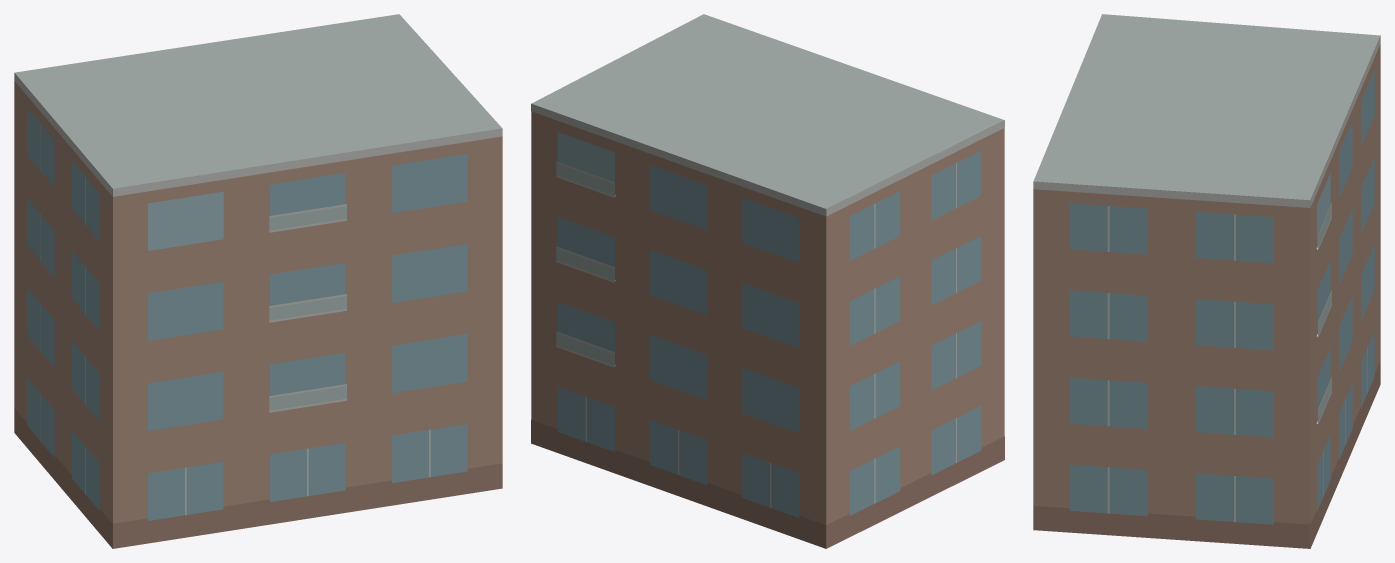
File: survey-upis-32801424.glb
3 renders of one model, left to right at view 1: azimuth 30°, elevation 25°; view 2: azimuth 150°, elevation 25°; view 3: azimuth 270°, elevation 25°, orthographic. The views are drawn at different scales.
Parts seen in each view (by area): view 1: survey-upis-32801424.tmp; view 2: survey-upis-32801424.tmp; view 3: survey-upis-32801424.tmp.
Part boxes in pixels (box(x1,y1,x2,y2)): survey-upis-32801424.tmp: box(14, 14, 502, 548); survey-upis-32801424.tmp: box(531, 14, 1004, 548); survey-upis-32801424.tmp: box(1033, 14, 1380, 548).
Size of the model in its own units: 12.57 by 10.96 by 9.9.
